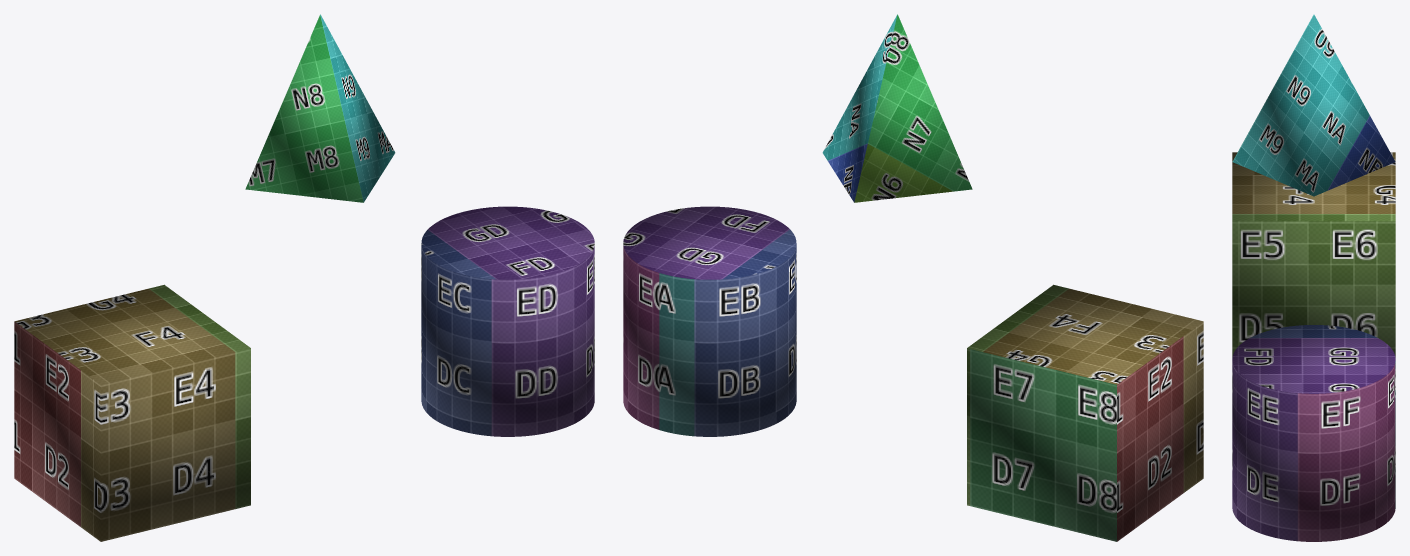
3 views of the same model, side by side, from view 1: azimuth 30°, elevation 25°; view 2: azimuth 150°, elevation 25°; view 3: azimuth 270°, elevation 25° (orthographic). The views are drawn at different scales.
Visible parts, largest first — view 1: Cube, Cylinder, Cone; view 2: Cube, Cylinder, Cone; view 3: Cylinder, Cube, Cone.
Boxes of the visible parts, bbox=[...] form: Cube: bbox=[14, 284, 250, 541]; Cylinder: bbox=[421, 206, 594, 436]; Cone: bbox=[245, 14, 395, 202]; Cube: bbox=[967, 284, 1203, 541]; Cylinder: bbox=[623, 206, 796, 436]; Cone: bbox=[822, 14, 972, 202]; Cylinder: bbox=[1232, 325, 1395, 541]; Cube: bbox=[1232, 152, 1395, 357]; Cone: bbox=[1232, 14, 1395, 196].
Size of the model in its own units: 0.7 by 0.55 by 0.2.
1 material, 1 textured.
